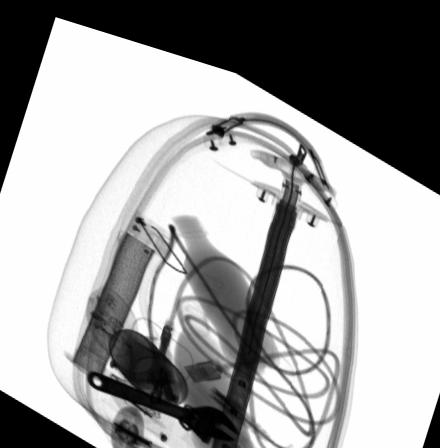Wrench: (85, 365, 240, 432)
